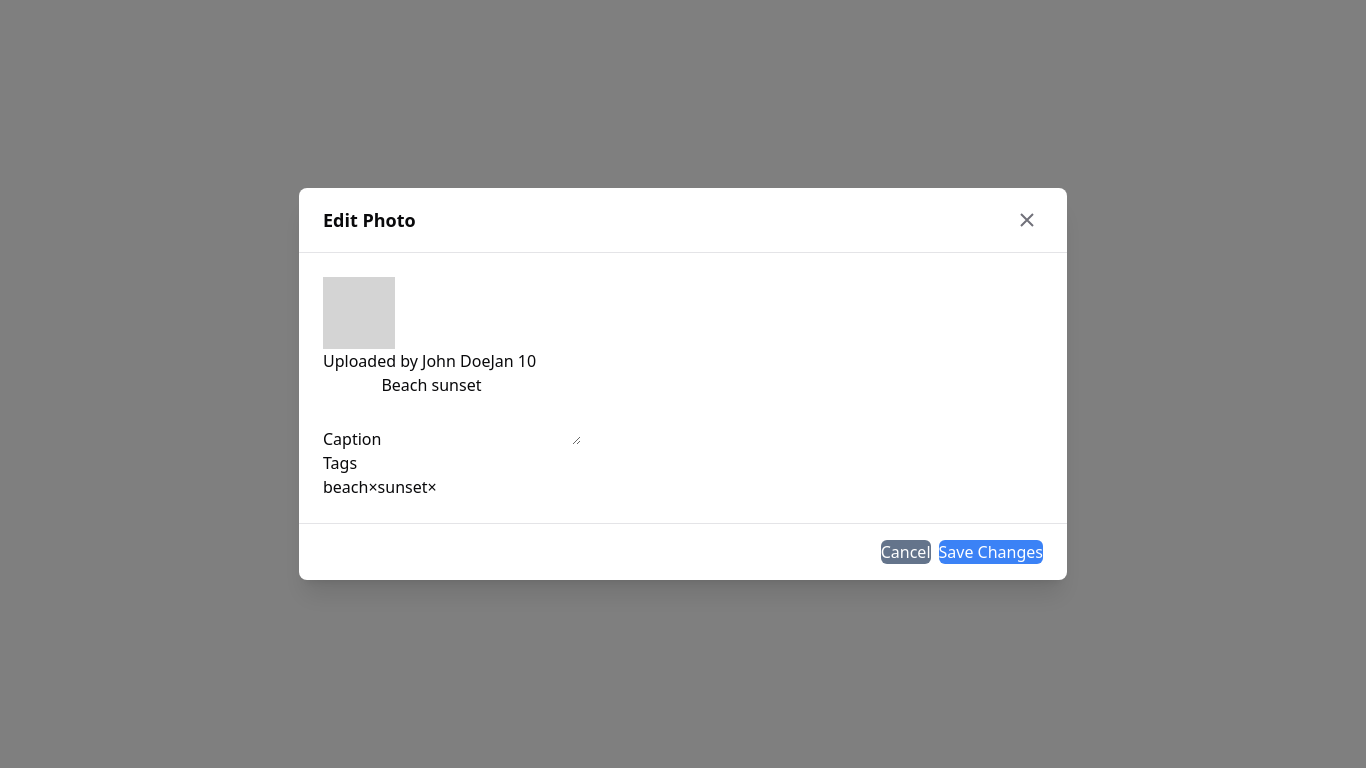
MediaEditModal › saving › should show error message on save failure
Click the button "Save Changes" at (991, 552), box top-left (938, 540), bottom-right (1043, 564)
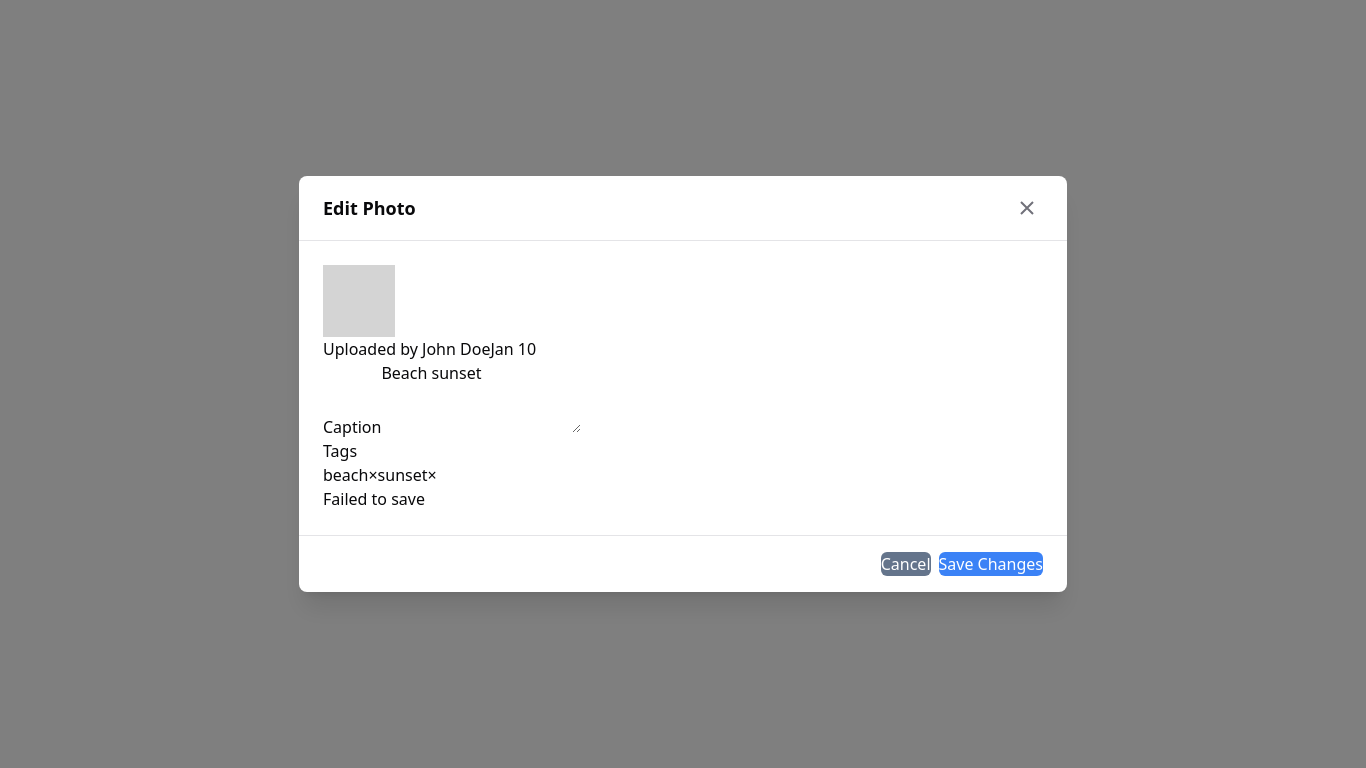
Now the message "Failed to save" is shown, box top-left (323, 488), bottom-right (425, 510)
